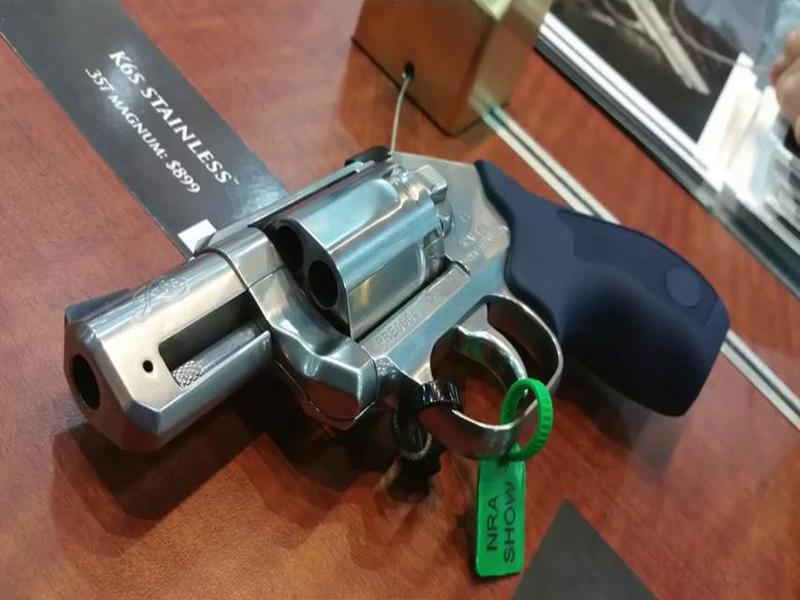Revolver: (54, 135, 737, 503)
